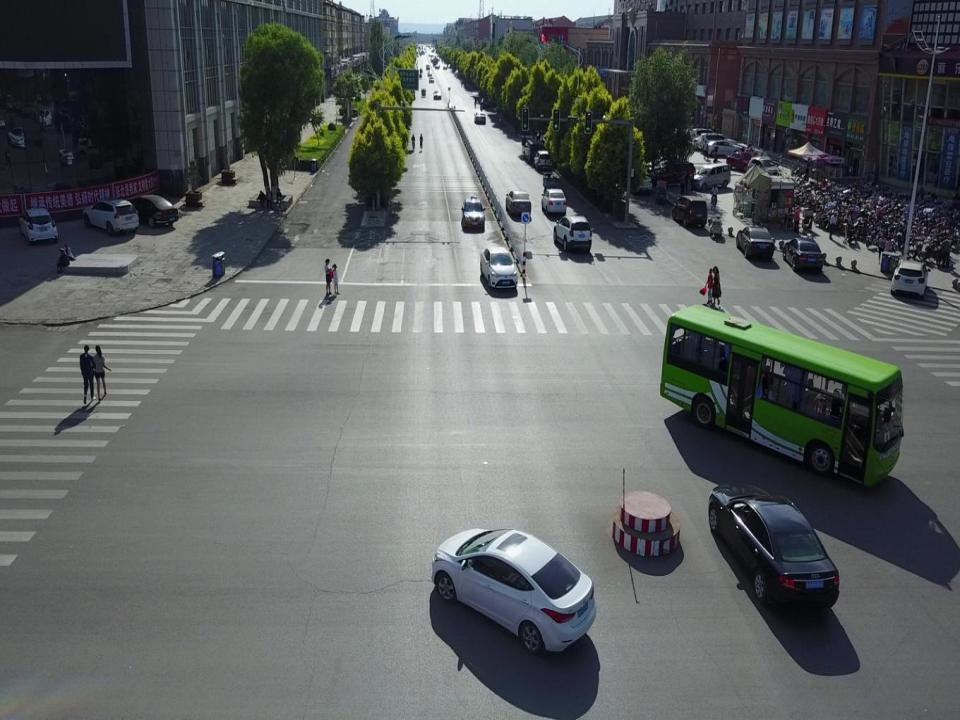bus: (659, 303, 905, 489)
car: (431, 524, 596, 657), (706, 482, 842, 610), (82, 198, 140, 236), (126, 194, 178, 228), (479, 246, 518, 289), (889, 259, 931, 298), (17, 207, 59, 245), (782, 237, 824, 272), (552, 215, 592, 251), (736, 224, 774, 260), (746, 155, 782, 182), (461, 195, 486, 229), (697, 132, 737, 152), (623, 169, 652, 196), (504, 189, 532, 216), (541, 188, 567, 216), (725, 152, 758, 172), (704, 139, 742, 156), (690, 128, 719, 148), (693, 132, 724, 148), (533, 150, 552, 171), (474, 111, 486, 124), (433, 90, 442, 100), (428, 76, 435, 83)
van: (671, 194, 707, 228), (689, 162, 731, 191), (524, 138, 544, 163)
